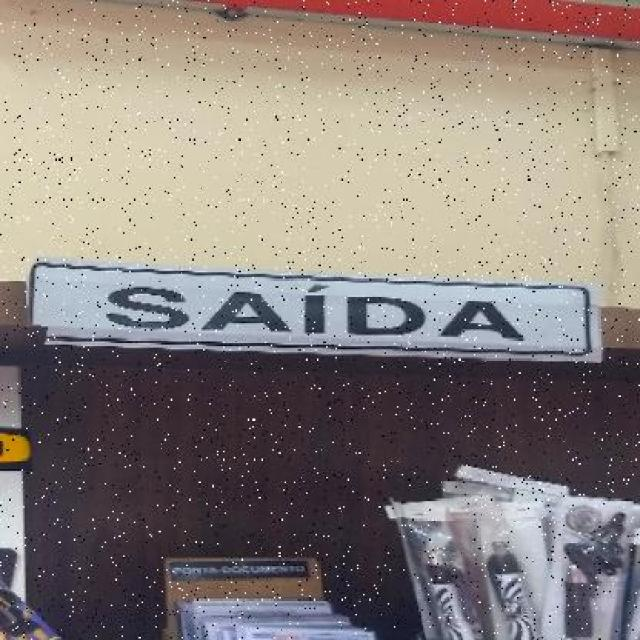emergency_exit: (29, 259, 603, 363)
